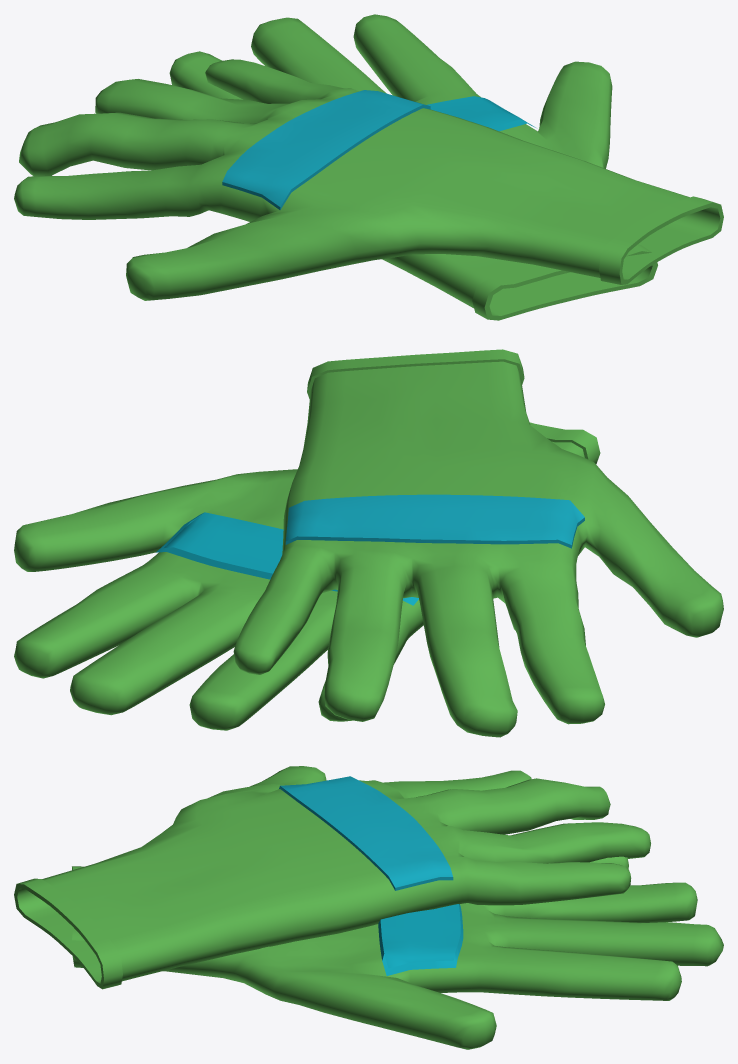
3 views of the same model, one above another, from view 1: azimuth 30°, elevation 25°; view 2: azimuth 150°, elevation 25°; view 3: azimuth 270°, elevation 25° (orthographic). The views are drawn at different scales.
Parts seen in each view (by area): view 1: ppe_gloves; view 2: ppe_gloves; view 3: ppe_gloves.
Boxes of the visible parts, x1=… form: ppe_gloves: x1=14, y1=14, x2=723, y2=320; ppe_gloves: x1=14, y1=349, x2=723, y2=737; ppe_gloves: x1=14, y1=766, x2=723, y2=1049.
Size of the model in its own units: 0.2437 by 0.0349 by 0.2818.
